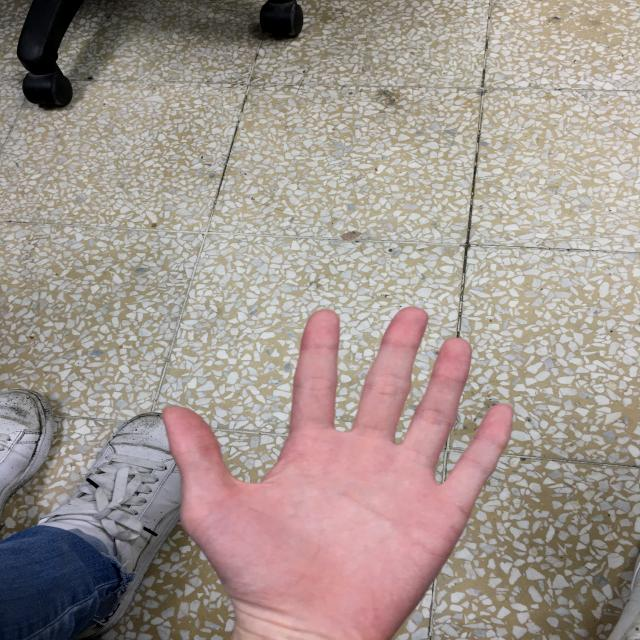no_glove: (147, 295, 532, 640)
